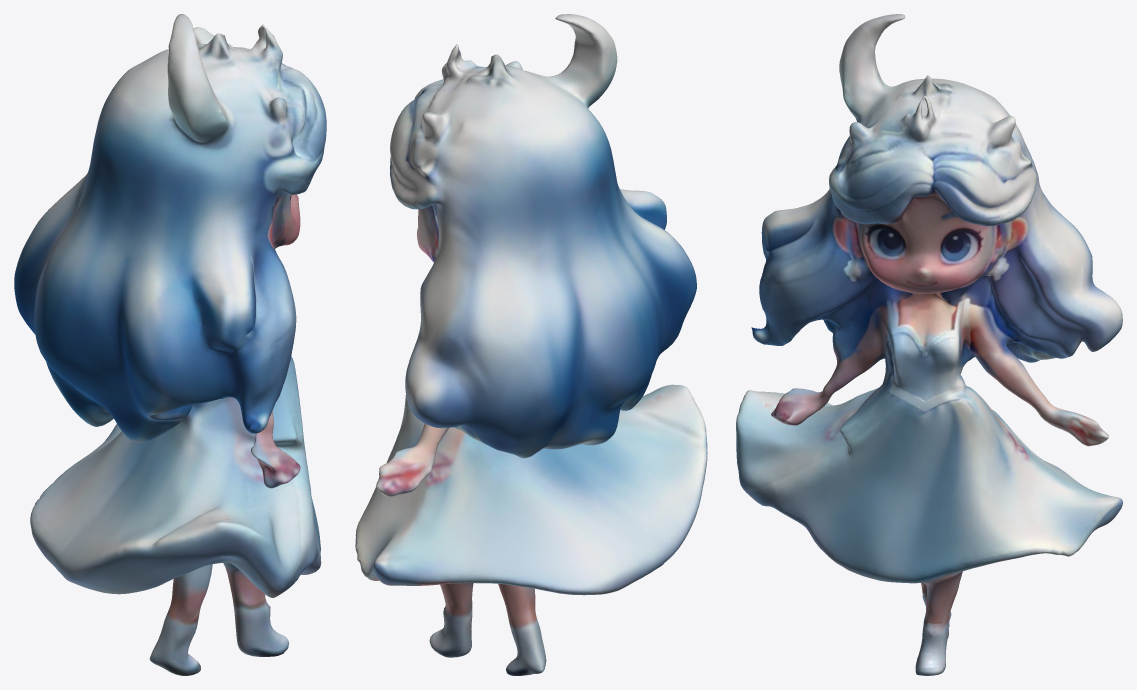
File: lunara_hero.glb
3 views of the same model, side by side, from view 1: azimuth 30°, elevation 25°; view 2: azimuth 150°, elevation 25°; view 3: azimuth 270°, elevation 25° (orthographic). The views are drawn at different scales.
Visible parts, largest first — view 1: tripo_node_7e6cbb91-b0d3-496f-aee9-d69549febb6f; view 2: tripo_node_7e6cbb91-b0d3-496f-aee9-d69549febb6f; view 3: tripo_node_7e6cbb91-b0d3-496f-aee9-d69549febb6f.
Boxes of the visible parts, x1,y1,x2,y2 form: tripo_node_7e6cbb91-b0d3-496f-aee9-d69549febb6f: (14, 14, 326, 675); tripo_node_7e6cbb91-b0d3-496f-aee9-d69549febb6f: (355, 14, 707, 675); tripo_node_7e6cbb91-b0d3-496f-aee9-d69549febb6f: (736, 14, 1122, 675).
Bounding box in the file's own units: 0.3646 × 0.8799 × 0.5009.
Materials: 1 (1 with a texture image).
